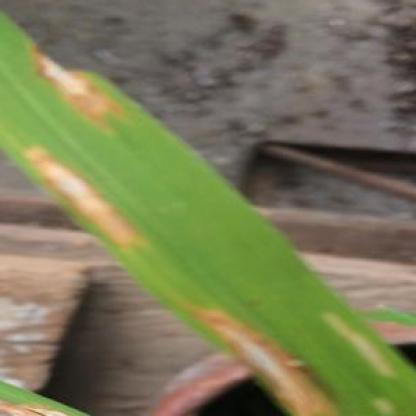Rice blast: (187, 302, 360, 416), (5, 143, 147, 254), (26, 40, 133, 141)
